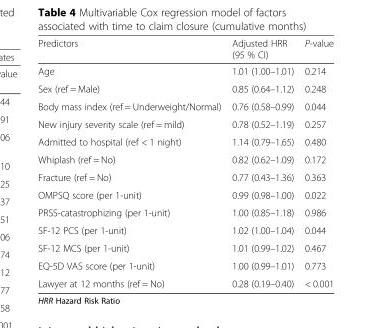table: (37, 37, 333, 288)
table column: (37, 37, 225, 288), (225, 37, 298, 288), (298, 37, 333, 288)
table column header: (37, 37, 333, 62)
table row: (37, 37, 333, 62), (37, 79, 333, 97), (37, 114, 333, 132), (37, 132, 333, 150), (37, 150, 333, 168), (37, 185, 333, 203), (37, 203, 333, 221), (37, 238, 333, 256), (37, 256, 333, 274), (37, 62, 333, 79), (37, 97, 333, 114), (37, 168, 333, 185), (37, 221, 333, 238), (37, 274, 333, 288)
